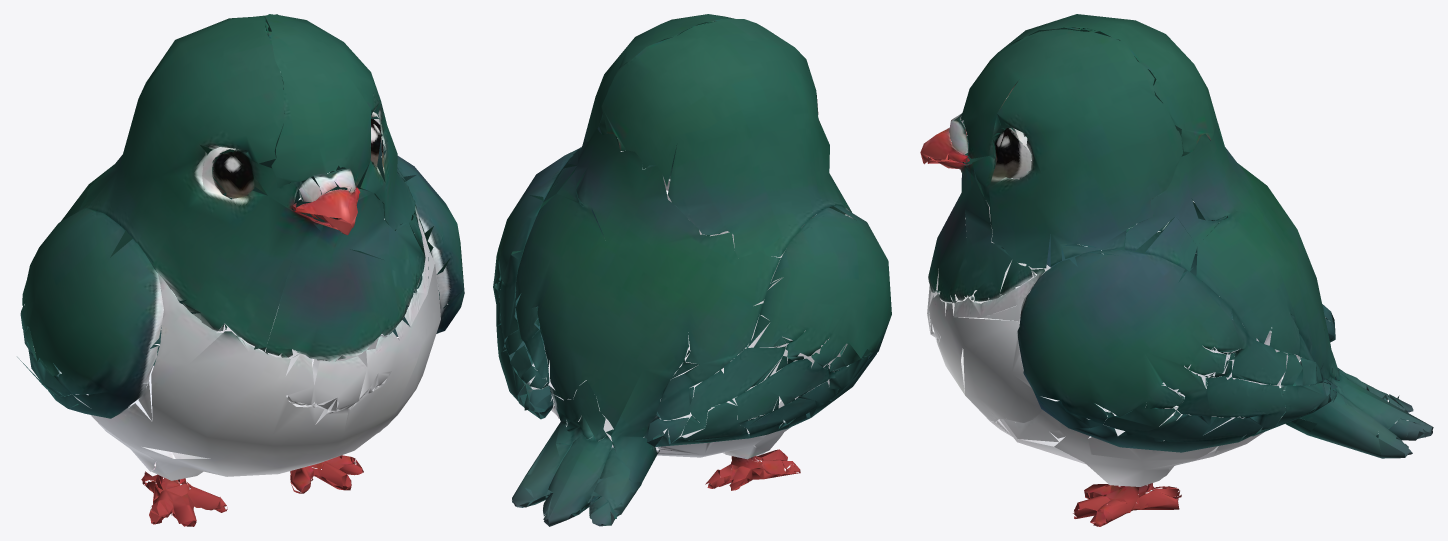
The model's file is kereru.glb.
3 renders of one model, left to right at view 1: azimuth 30°, elevation 25°; view 2: azimuth 150°, elevation 25°; view 3: azimuth 270°, elevation 25°, orthographic. The views are drawn at different scales.
Parts seen in each view (by area): view 1: model; view 2: model; view 3: model.
Part boxes in pixels (left/top/right/bottom): model: left=17, top=14, right=464, bottom=526; model: left=493, top=14, right=891, bottom=526; model: left=920, top=14, right=1433, bottom=526.
Bounding box in the file's own units: 1.62 × 1.86 × 1.9.
1 material, 1 textured.
